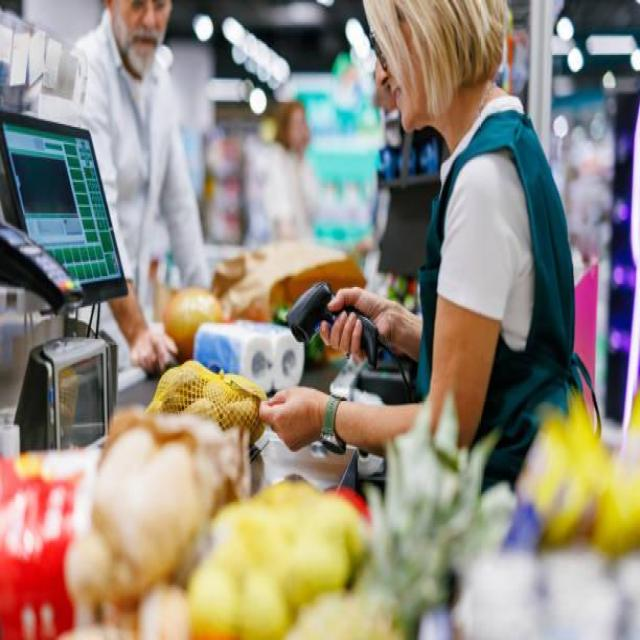article: (146, 361, 266, 442)
hands: (320, 287, 419, 358), (259, 386, 327, 449)
